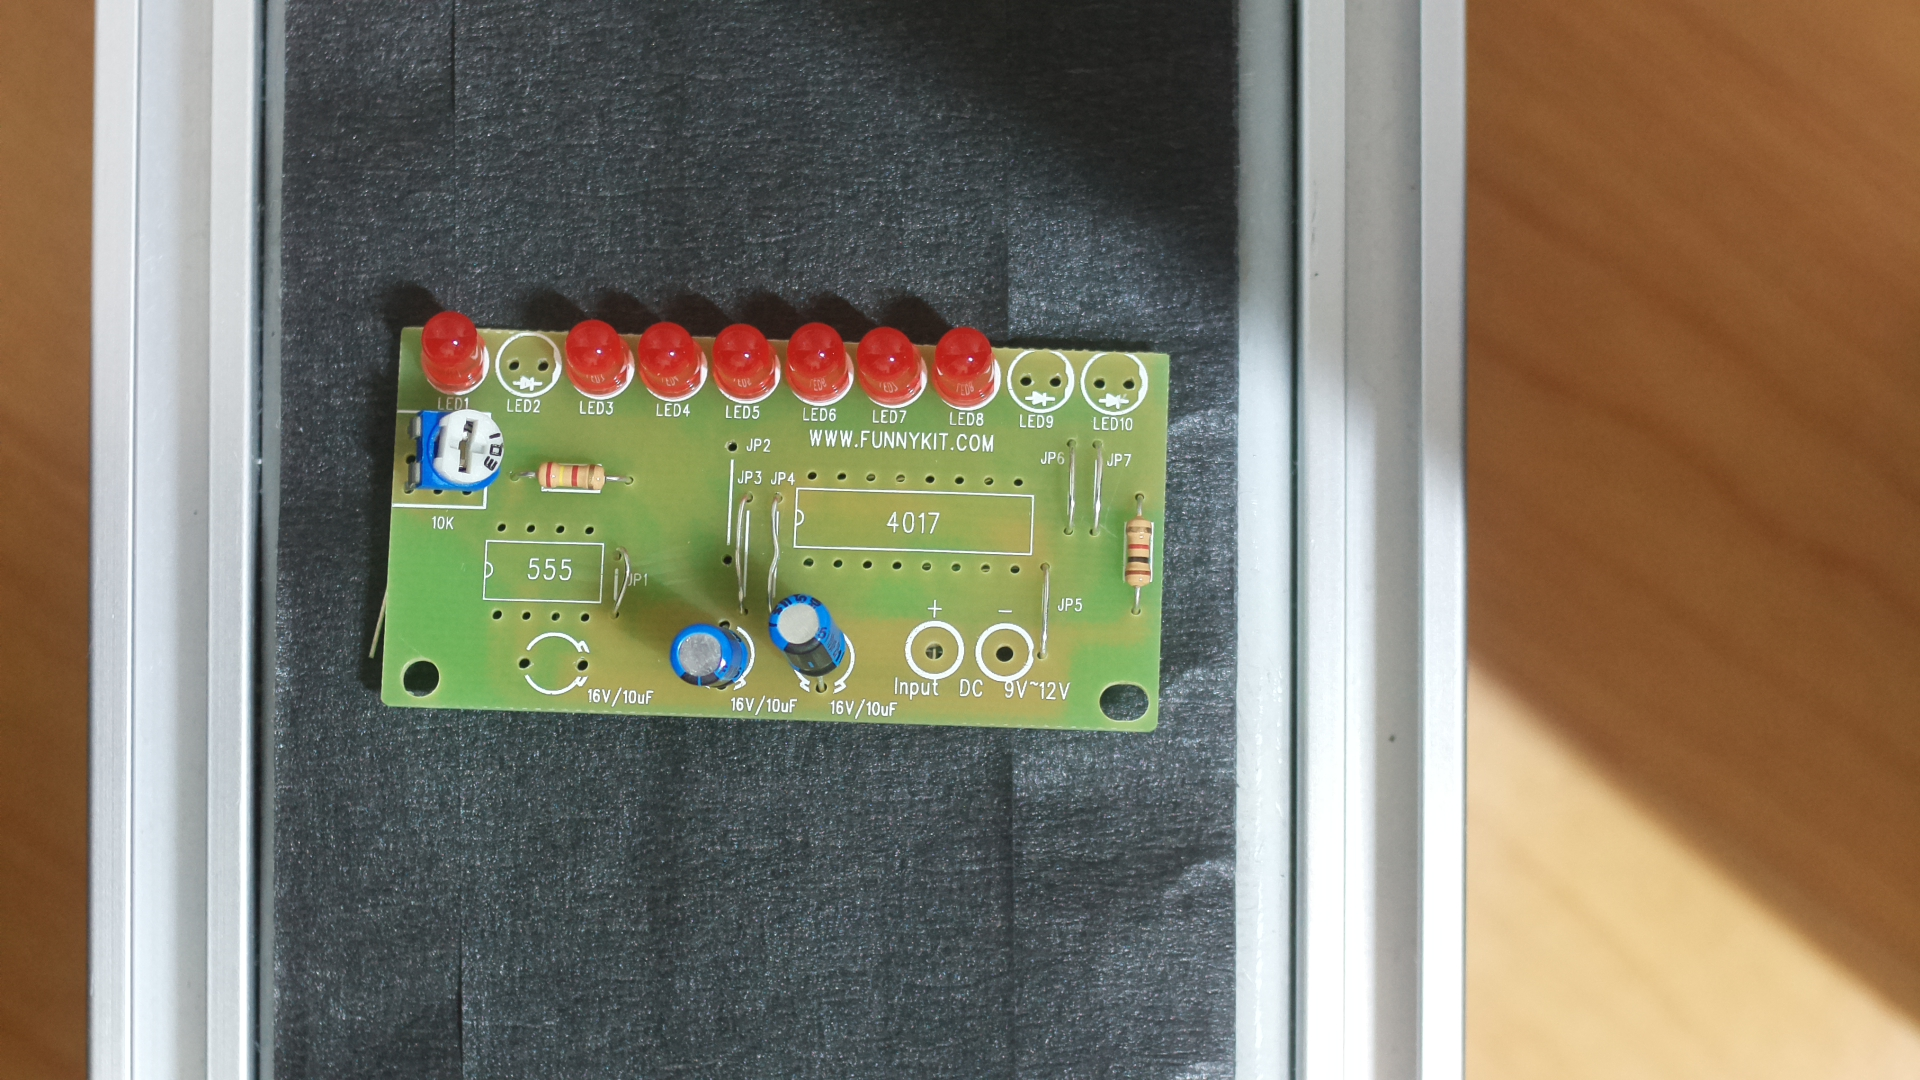B_Missing_part: (364, 294, 1191, 742)
